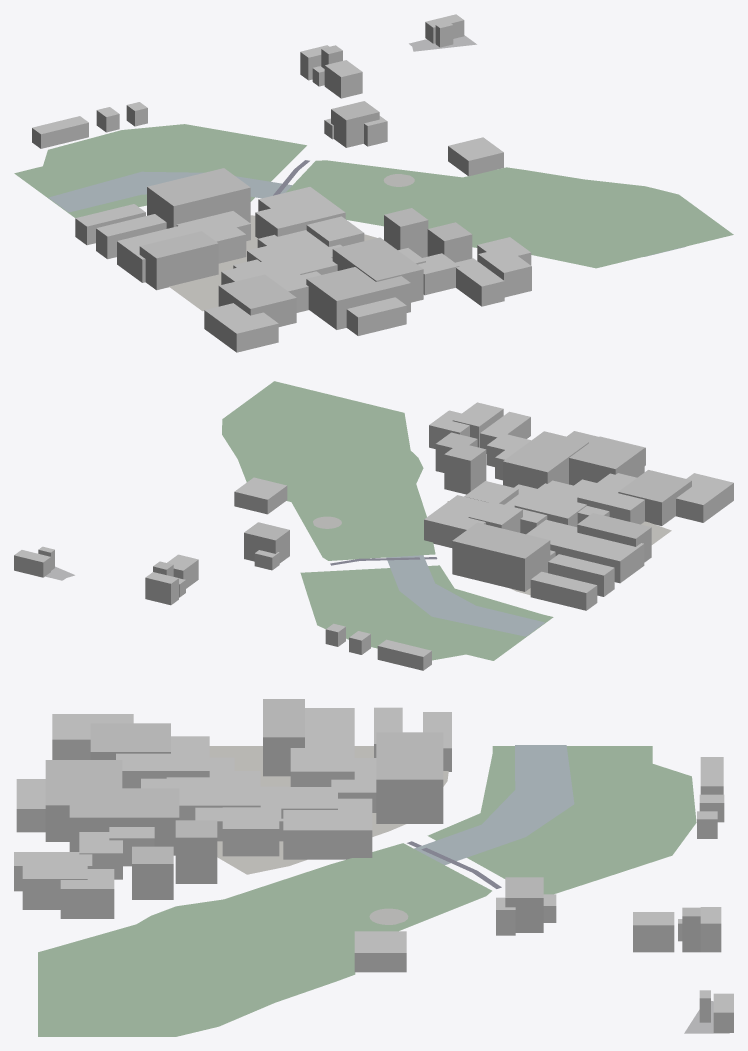
Rendered from 127_91_mid.glb.
3 views of the same model, one above another, from view 1: azimuth 30°, elevation 25°; view 2: azimuth 150°, elevation 25°; view 3: azimuth 270°, elevation 25° (orthographic). The views are drawn at different scales.
Bounding box in the file's own units: 519 × 38.27 × 520.
